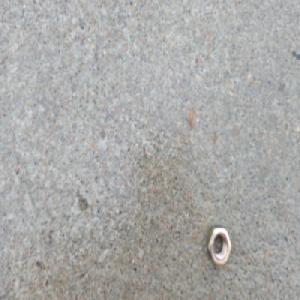Nut: (206, 224, 232, 267)
